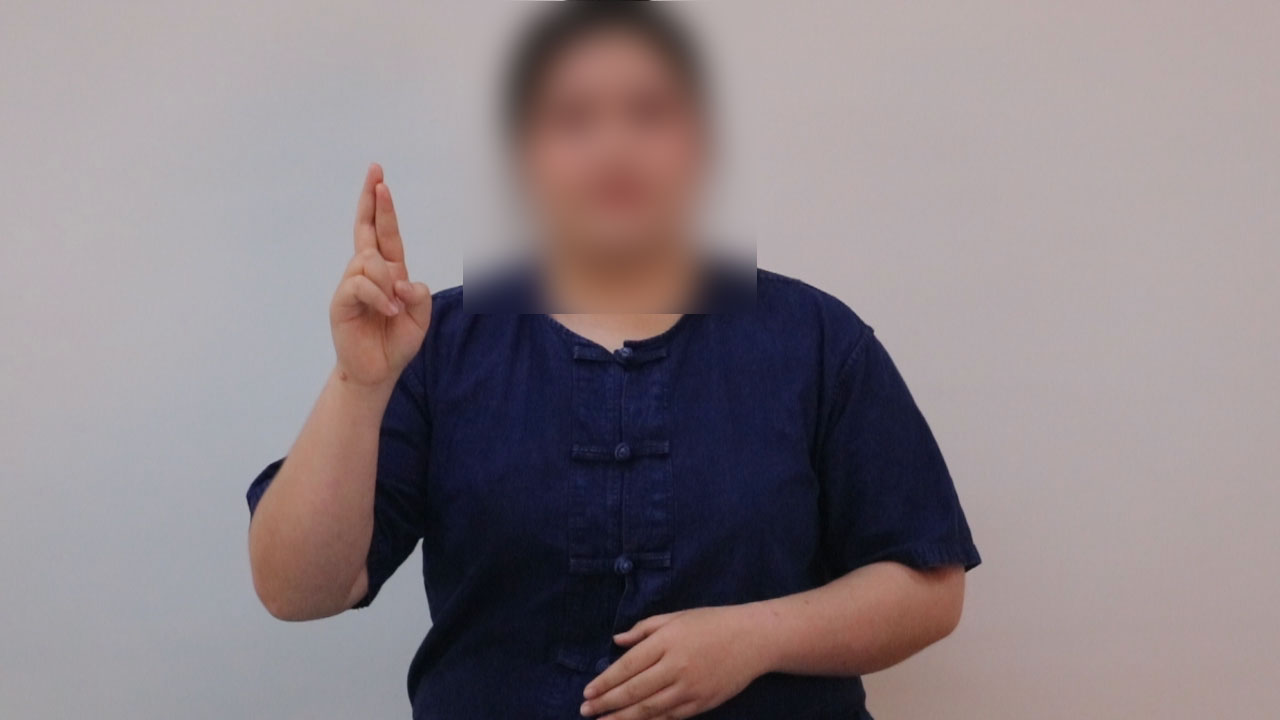rao: (304, 156, 442, 421)
